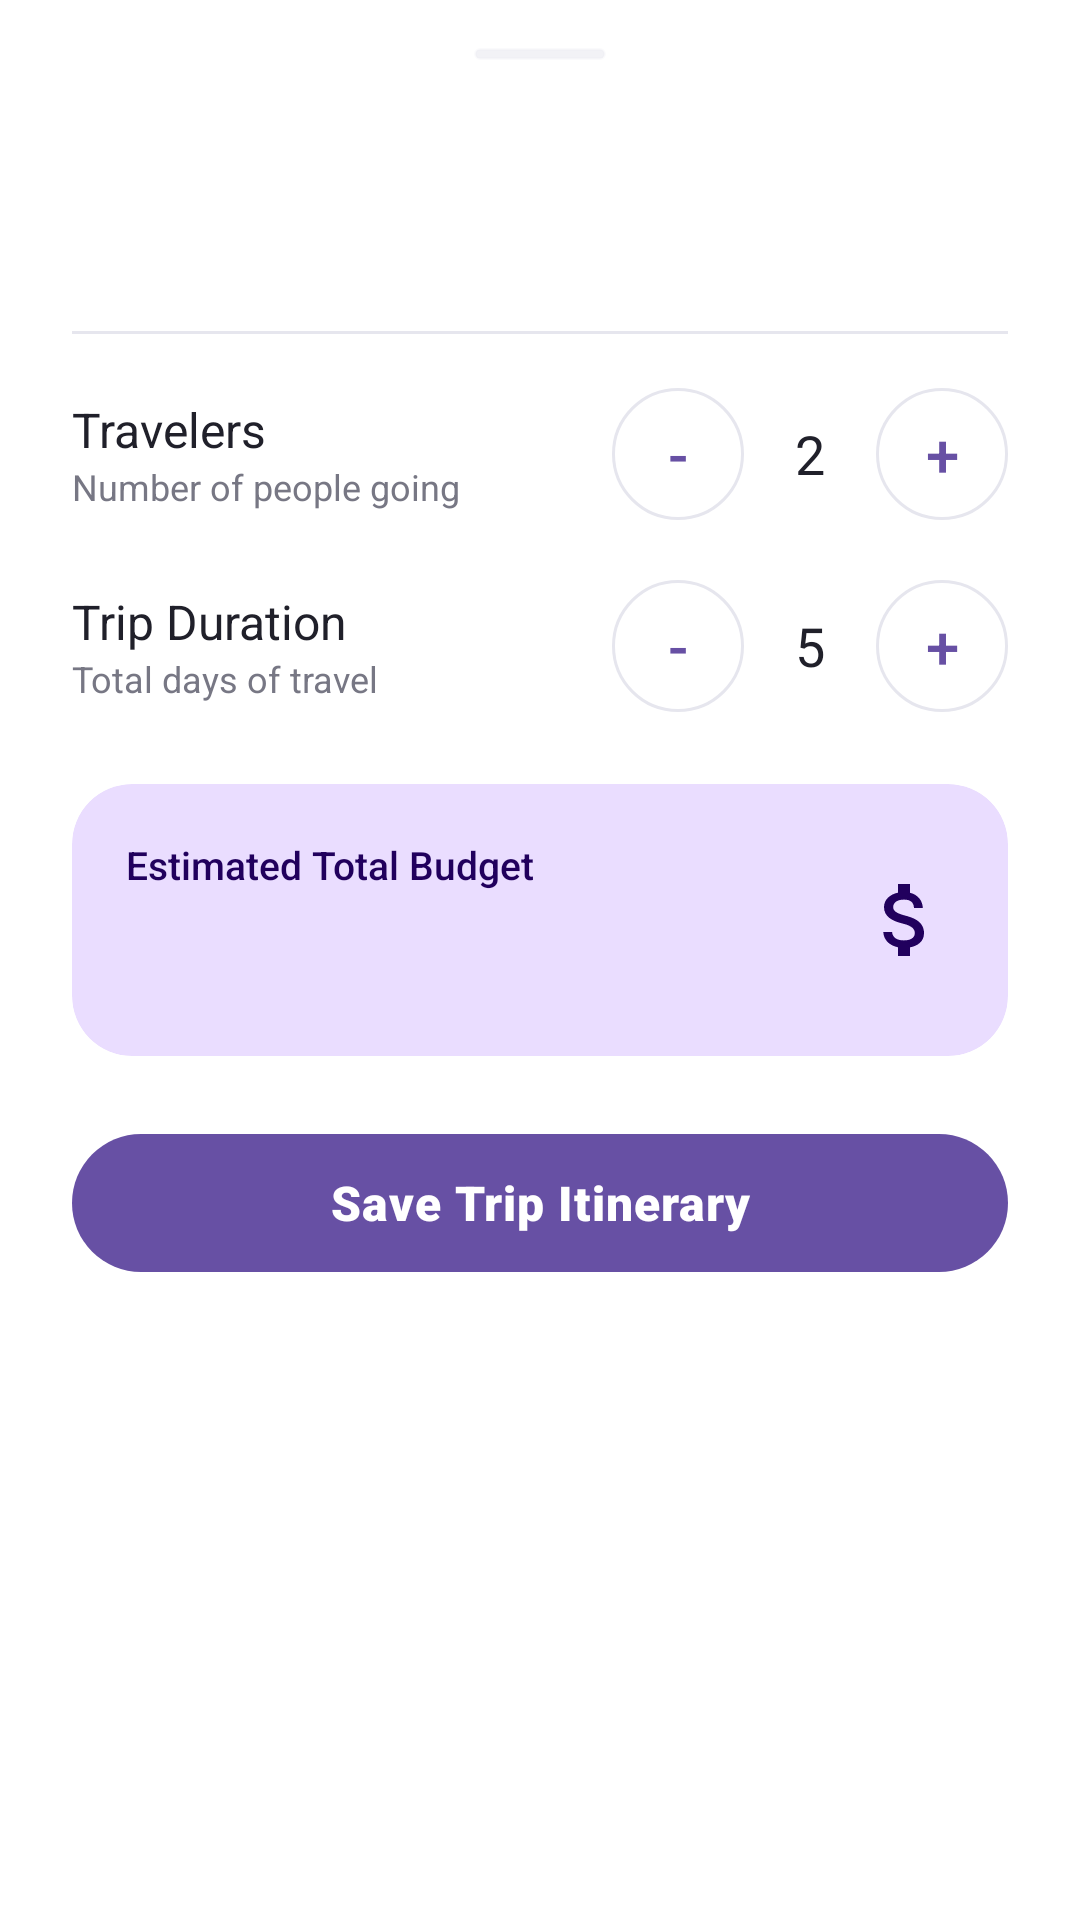

Icon click points for this 1080px x 1920px phone screenshot, format [x,y]:
dollar: [903,920]
